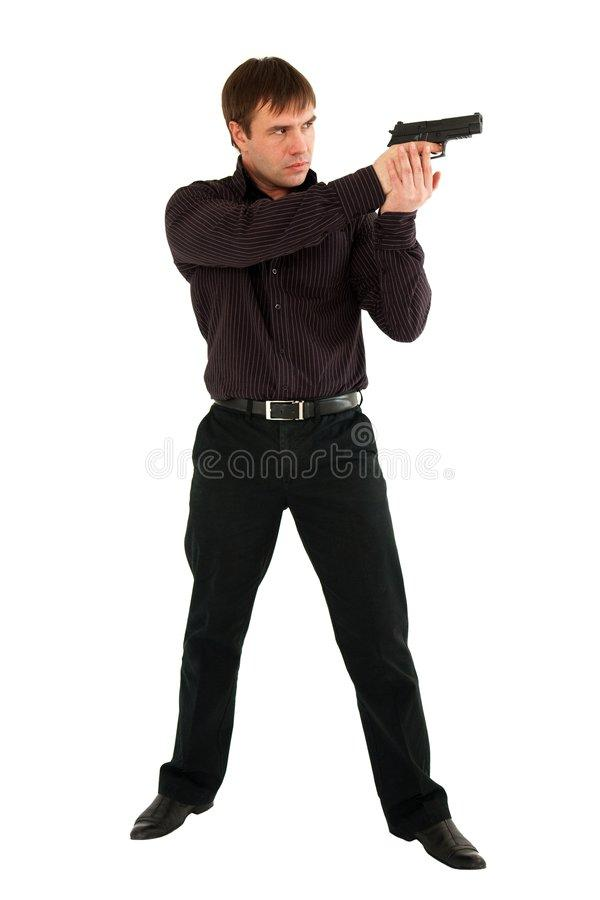criminal: (127, 48, 486, 873)
weapon: (384, 106, 486, 170)
